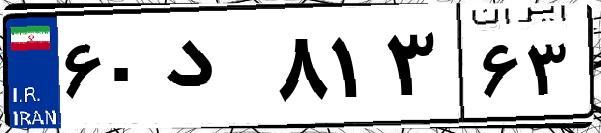0: (110, 28, 158, 98)
1: (330, 28, 385, 110)
3: (385, 28, 445, 110), (525, 38, 570, 115)
6: (57, 26, 110, 100), (475, 38, 525, 113)
8: (270, 28, 330, 110)
د: (158, 20, 270, 120)
